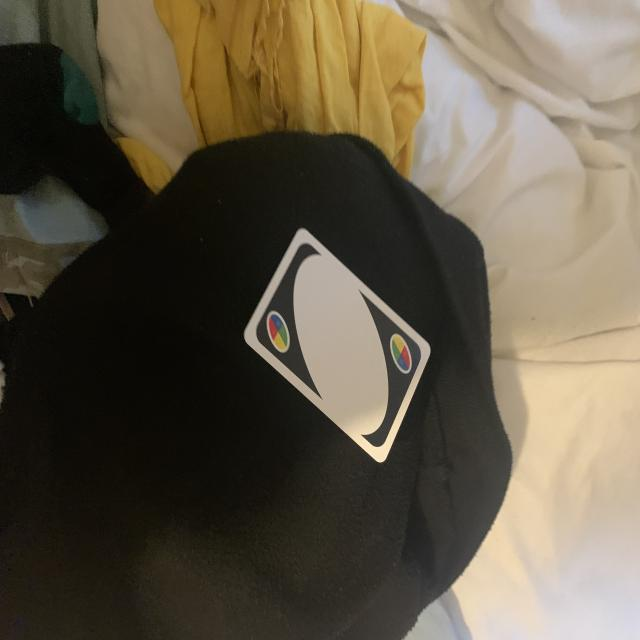lcolor-40: (264, 307, 294, 358)
